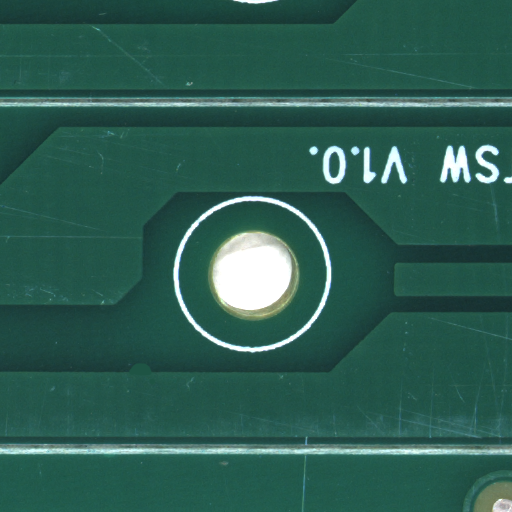Spur: (138, 367, 163, 377)
